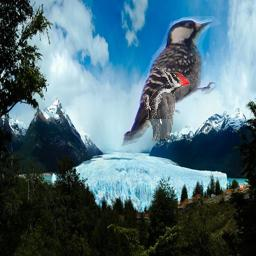Woodpecker: (115, 12, 222, 151), (144, 66, 190, 141)
